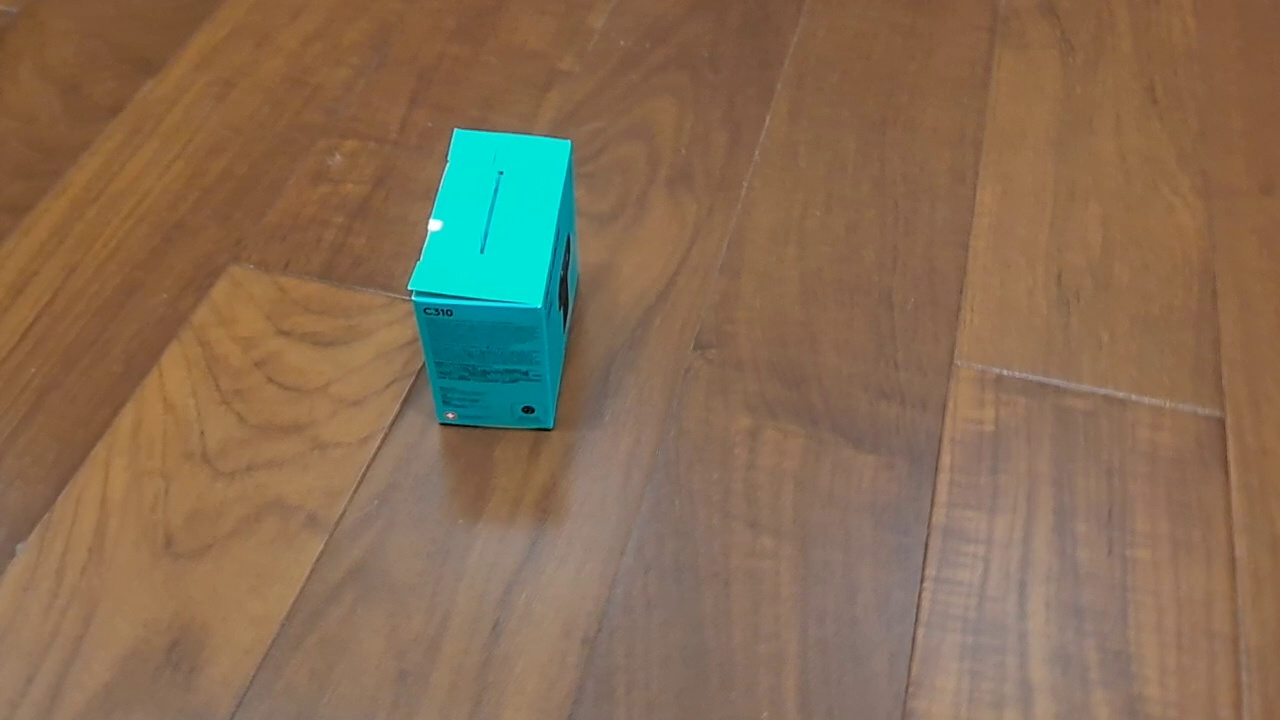webcam: (405, 124, 581, 433)
